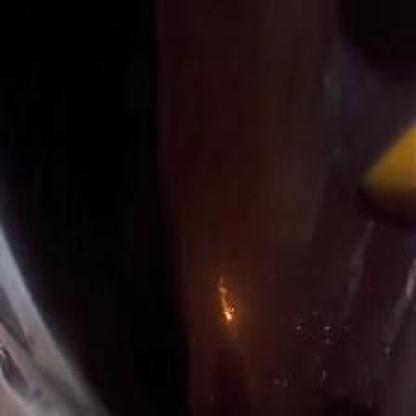fire: (214, 277, 238, 326)
